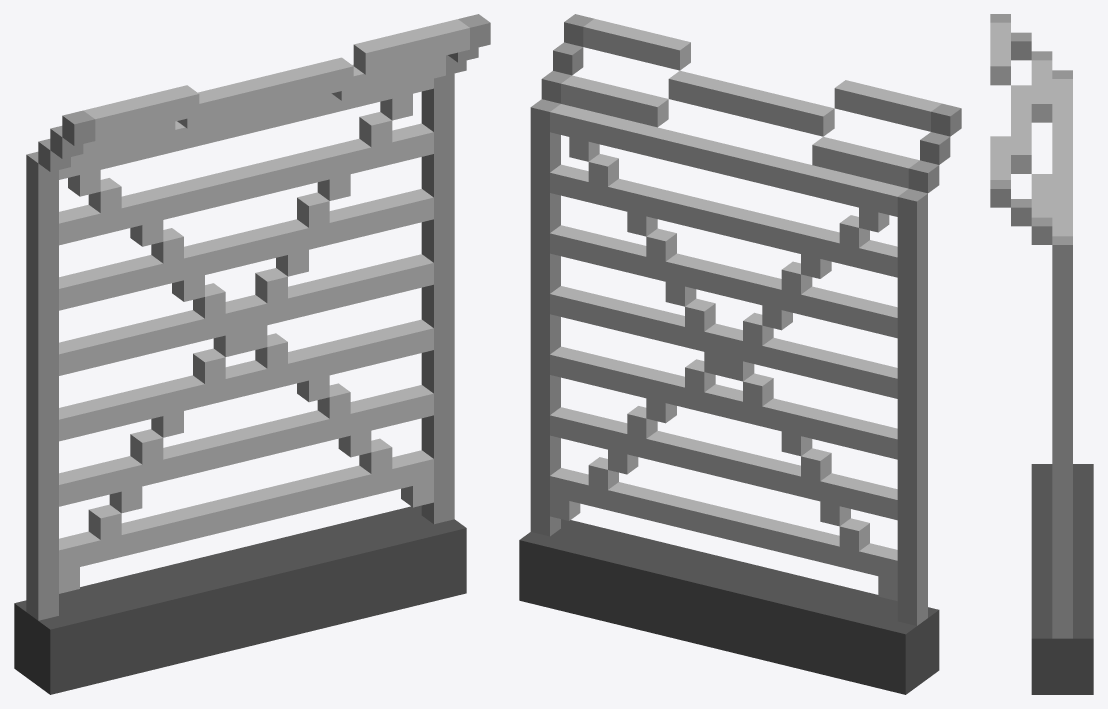
Rendered from prop_fence_t1.obj.
The picture shows the model from 3 angles, left to right: view 1: azimuth 30°, elevation 25°; view 2: azimuth 150°, elevation 25°; view 3: azimuth 270°, elevation 25°; orthographic projection. The views are drawn at different scales.
Size of the model in its own units: 2 by 2.7 by 0.5.
1 material, 1 textured.
